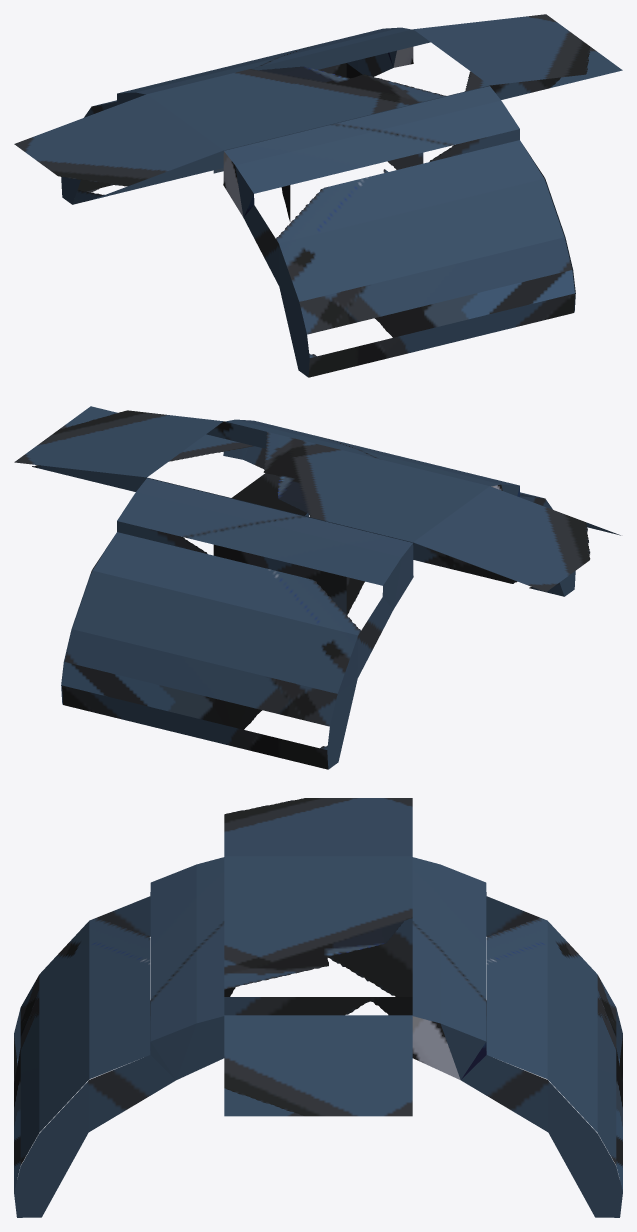
The model's file is df11g_carport_centre_fan_blind.obj.
3 views of the same model, one above another, from view 1: azimuth 30°, elevation 25°; view 2: azimuth 150°, elevation 25°; view 3: azimuth 270°, elevation 25° (orthographic). The views are drawn at different scales.
Visible parts, largest first — view 1: cube_selection_selection_selection_selection; view 2: cube_selection_selection_selection_selection; view 3: cube_selection_selection_selection_selection.
Boxes of the visible parts, left/top/right/bottom form: cube_selection_selection_selection_selection: left=14, top=14, right=622, bottom=377; cube_selection_selection_selection_selection: left=14, top=406, right=620, bottom=769; cube_selection_selection_selection_selection: left=14, top=798, right=622, bottom=1217.
Size of the model in its own units: 4 by 1.19 by 3.24.
